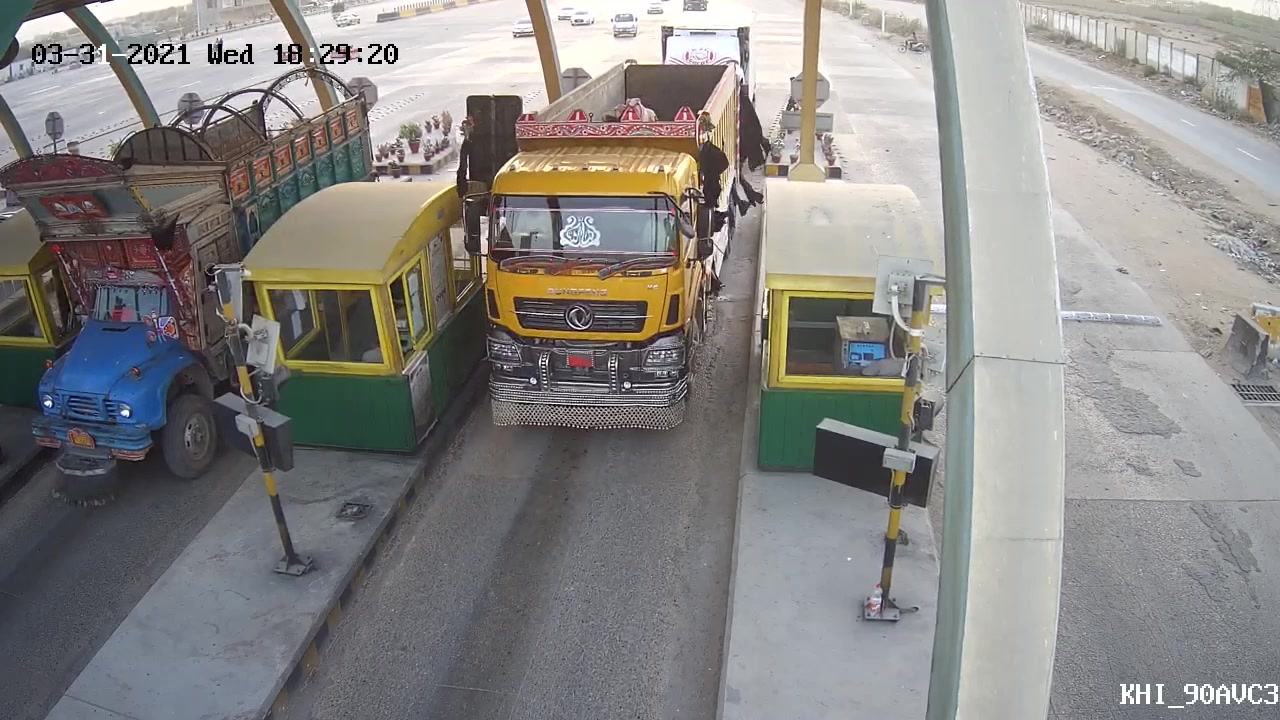F6: (472, 53, 760, 432)
